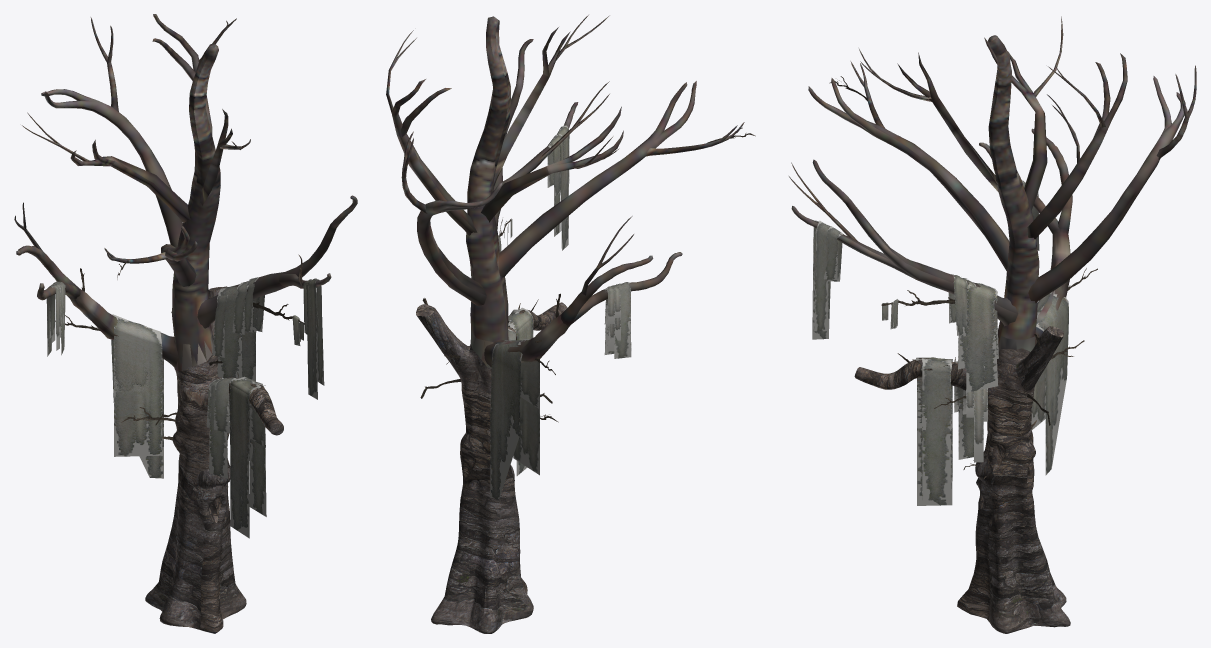
Rendered from SM_DeadWillow.fbx.
The picture shows the model from 3 angles, left to right: view 1: azimuth 30°, elevation 25°; view 2: azimuth 150°, elevation 25°; view 3: azimuth 270°, elevation 25°; orthographic projection.
Visible parts, largest first — view 1: SM_DeadWillow_LOD0; view 2: SM_DeadWillow_LOD0; view 3: SM_DeadWillow_LOD0.
Part boxes in pixels (x1,y1,x2,y2): SM_DeadWillow_LOD0: (14,14,357,633); SM_DeadWillow_LOD0: (386,15,755,633); SM_DeadWillow_LOD0: (789,16,1196,633).
Size of the model in its own units: 315 by 456 by 715.
